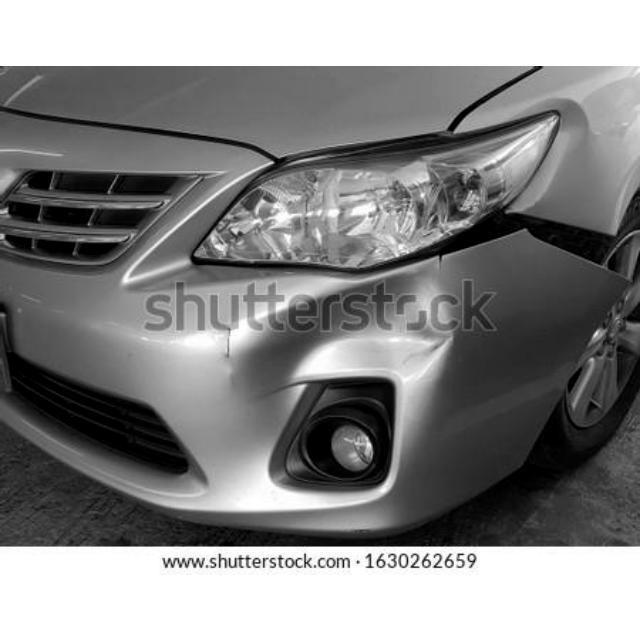fender-dent: (448, 65, 638, 265)
front-bumper-dent: (0, 230, 638, 514)
